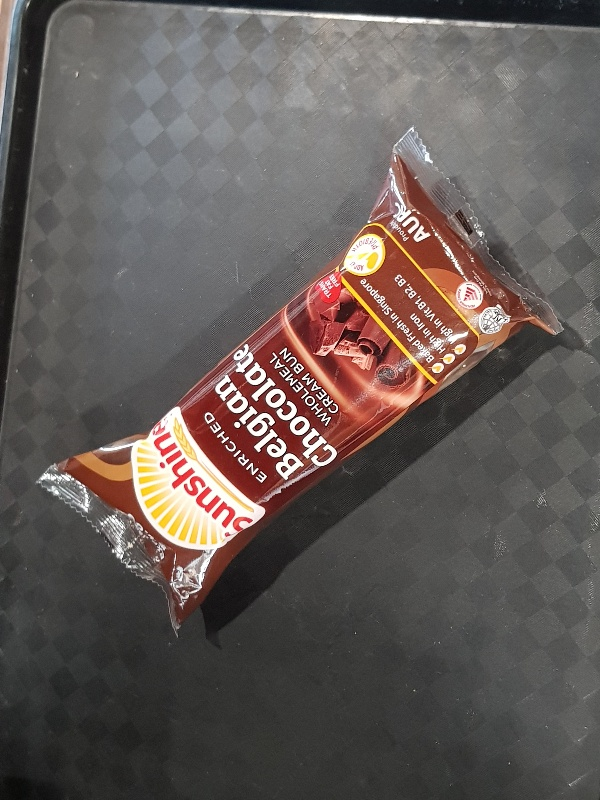Sunshine Belgium Chocolate Wholemeal Cream Bun: (34, 125, 562, 637)
